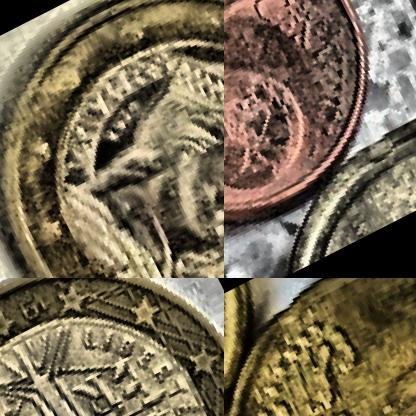coin: (0, 0, 223, 277), (224, 0, 415, 257), (0, 278, 223, 415), (224, 278, 415, 415)
